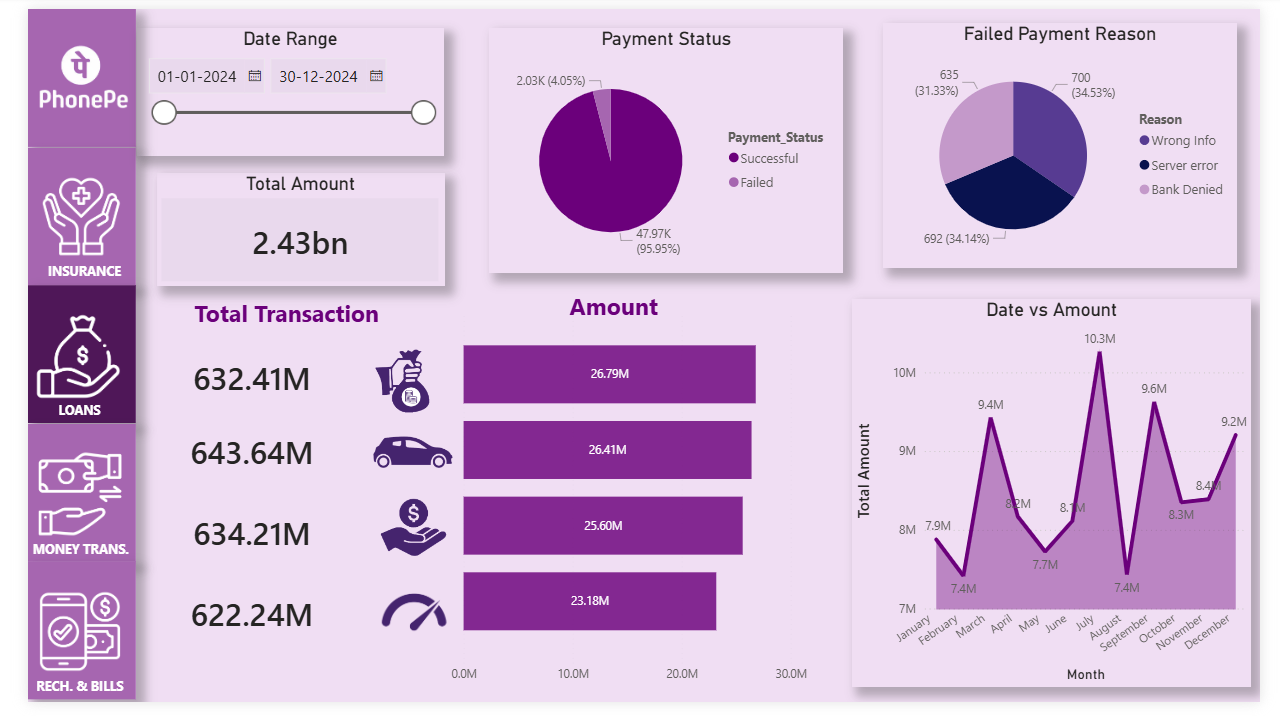

The dashboard page shown, as its layout file describes it:
{"tool":"powerbi","page":{"name":"Insurance","canvas":[1280,720],"ordinal":1},"visuals":[{"type":"shape","box":[0,0,111.9,144],"z":0,"group":"g1"},{"type":"slicer","title":"Date Range","fields":{"Values":["Insurance.Date"]},"box":[122.6,15.5,314.3,133.3],"z":0},{"type":"shape","box":[0,144,112.2,143.6],"z":0,"group":"g4"},{"type":"shape","box":[0,591.7,113.1,128.6],"z":0,"group":"g3"},{"type":"cardVisual","title":"Total   Amount","fields":{"Data":["Sum(Insurance.Premium)"]},"box":[122.6,160.7,314.3,117.9],"z":1000},{"type":"shape","box":[0,285.7,111.9,142.9],"z":1000,"group":"g5"},{"type":"image","box":[0,621.2,111.9,72.7],"z":1000,"group":"g3"},{"type":"pieChart","title":"Failed Payment Reason","fields":{"Category":["Insurance.Reason"],"Y":["CountNonNull(Insurance.Reason)"]},"box":[888.1,14.3,367.9,254.8],"z":2000},{"type":"shape","box":[1.2,429.7,111.9,161.9],"z":2000,"group":"g2"},{"type":"textbox","box":[9.5,693.9,121.4,26.3],"z":2000,"group":"g3"},{"type":"areaChart","title":"Date vs Amount","fields":{"Category":["Insurance.Date.Variation.Date Hierarchy.Month"],"Y":["Sum(Insurance.Premium)"]},"box":[850,285.7,416.7,414.3],"z":3000},{"type":"group","id":"g1","title":"Group 1","box":[0,0,111.9,144],"z":4000},{"type":"image","box":[5.6,157,97.6,127.4],"z":4000,"group":"g4"},{"type":"image","box":[7.2,8.4,98.9,127.9],"z":5000,"group":"g1"},{"type":"group","id":"g2","title":"Group 4","box":[0,144,122.6,447.6],"z":5000},{"type":"image","box":[10.7,293.8,97.6,126.2],"z":5000,"group":"g5"},{"type":"actionButton","box":[1.2,144,113.1,145.2],"z":6000},{"type":"image","box":[13.1,438,97.6,127.4],"z":6000,"group":"g2"},{"type":"actionButton","box":[0,141.7,113.1,145.2],"z":7000},{"type":"textbox","box":[5,259.4,107,28],"z":8000,"group":"g4"},{"type":"actionButton","box":[2.4,434.5,113.1,141.7],"z":8000},{"type":"textbox","box":[2.4,402,106,32.1],"z":9000,"group":"g5"},{"type":"actionButton","box":[0,591.7,113.1,128.6],"z":9000},{"type":"actionButton","box":[0,0,113.1,144],"z":10000},{"type":"textbox","box":[0,551.1,122.6,27.4],"z":10000,"group":"g2"},{"type":"pieChart","title":"Payment Status","fields":{"Category":["Insurance.Payment_Status"],"Y":["CountNonNull(Insurance.Payment_Status)"]},"box":[482.1,21.4,367.9,254.8],"z":11000},{"type":"group","id":"g3","title":"Group 5","box":[0,591.7,131,128.6],"z":12000},{"type":"clusteredBarChart","title":"Date vs Amount","fields":{"Category":["Insurance.Insurance_Type"],"Y":["Sum(Insurance.Premium)"]},"box":[466.7,296.4,372.6,403.6],"z":13000},{"type":"image","box":[373.8,329.8,103.6,73.8],"z":14000},{"type":"image","box":[356,403.6,136.9,88.1],"z":15000},{"type":"image","box":[361.9,497.6,126.2,63.1],"z":16000},{"type":"image","box":[336.9,576.2,159.5,64.3],"z":17000},{"type":"textbox","box":[102.4,296.4,314.3,51.2],"z":18000},{"type":"cardVisual","title":"Total   Amount","fields":{"Data":["Sum(Insurance.Premium)"]},"box":[148.8,322.6,221.4,88.1],"z":19000},{"type":"cardVisual","title":"Total   Amount","fields":{"Data":["Sum(Insurance.Premium)"]},"box":[148.8,575,221.4,88.1],"z":20000},{"type":"group","id":"g4","title":"Group 2","box":[0,144,111.9,144],"z":20001,"group":"g5"},{"type":"group","id":"g5","title":"Group 3","box":[0,144,111.9,290.1],"z":20002,"group":"g2"},{"type":"cardVisual","title":"Total   Amount","fields":{"Data":["Sum(Insurance.Premium)"]},"box":[152.4,484.5,221.4,88.1],"z":21000},{"type":"cardVisual","title":"Total   Amount","fields":{"Data":["Sum(Insurance.Premium)"]},"box":[148.8,396.4,221.4,88.1],"z":22000},{"type":"textbox","box":[483.3,278.6,314.3,51.2],"z":23000}]}

Visuals, with their boxes in screenshot pixels (x1, y1, x2, y2), scaled from the page's 1280x720 canvas onto the 1280x716 screenshot:
shape: [0,0,112,143]
"Date Range" slicer: [123,15,437,148]
shape: [0,143,112,286]
shape: [0,588,113,715]
"Total   Amount" cardVisual: [123,160,437,277]
shape: [0,284,112,426]
image: [0,618,112,690]
"Failed Payment Reason" pieChart: [888,14,1256,268]
shape: [1,427,113,588]
textbox: [10,690,131,715]
"Date vs Amount" areaChart: [850,284,1267,696]
"Group 1" group: [0,0,112,143]
image: [6,156,103,283]
image: [7,8,106,136]
"Group 4" group: [0,143,123,588]
image: [11,292,108,418]
actionButton: [1,143,114,288]
image: [13,436,111,562]
actionButton: [0,141,113,285]
textbox: [5,258,112,286]
actionButton: [2,432,116,573]
textbox: [2,400,108,432]
actionButton: [0,588,113,715]
actionButton: [0,0,113,143]
textbox: [0,548,123,575]
"Payment Status" pieChart: [482,21,850,275]
"Group 5" group: [0,588,131,715]
"Date vs Amount" clusteredBarChart: [467,295,839,696]
image: [374,328,477,401]
image: [356,401,493,489]
image: [362,495,488,558]
image: [337,573,496,637]
textbox: [102,295,417,346]
"Total   Amount" cardVisual: [149,321,370,408]
"Total   Amount" cardVisual: [149,572,370,659]
"Group 2" group: [0,143,112,286]
"Group 3" group: [0,143,112,432]
"Total   Amount" cardVisual: [152,482,374,569]
"Total   Amount" cardVisual: [149,394,370,482]
textbox: [483,277,798,328]
